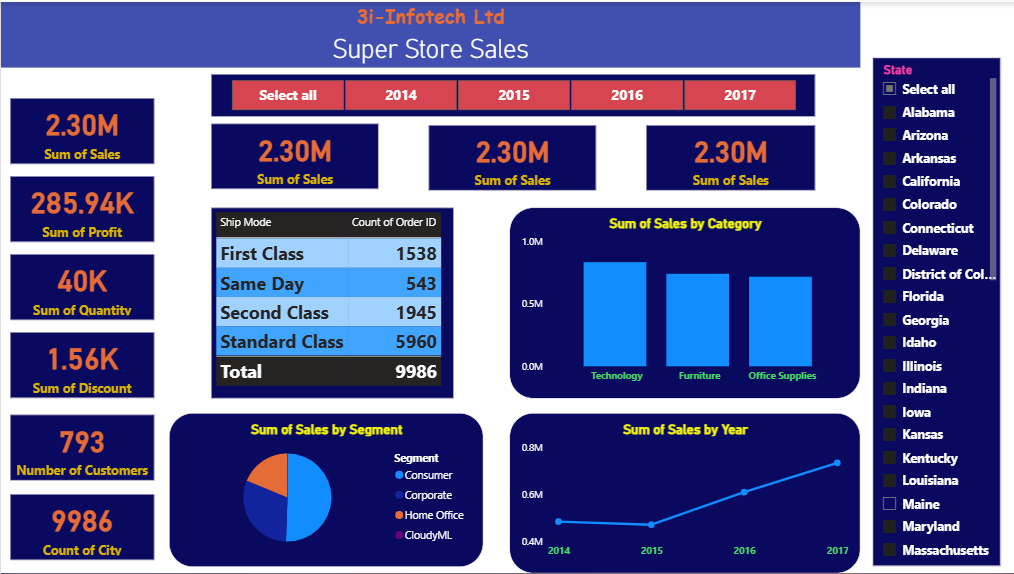

Layout of this report page (visuals, bound fields, positions):
{"tool":"powerbi","page":{"name":"Page 1","canvas":[1280,720],"ordinal":0},"visuals":[{"type":"textbox","title":"3i-Infotech Ltd","box":[0,0,1082.7,82.7],"z":0},{"type":"card","fields":{"Values":["Sum(Orders.Sales)"]},"box":[11.7,121.7,181.7,83.3],"z":1000},{"type":"card","fields":{"Values":["Sum(Orders.Profit)"]},"box":[11.7,218.3,181.7,83.3],"z":2000},{"type":"card","fields":{"Values":["Sum(Orders.Quantity)"]},"box":[11.7,318.3,181.7,83.3],"z":3000},{"type":"card","fields":{"Values":["Count(Orders.Customer Name)"]},"box":[11.7,520,181.7,83.3],"z":4000},{"type":"card","fields":{"Values":["Sum(Orders.Discount)"]},"box":[11.7,416.7,181.7,83.3],"z":5000},{"type":"card","fields":{"Values":["CountNonNull(Orders.City)"]},"box":[11.7,620,181.7,83.3],"z":6000},{"type":"card","fields":{"Values":["Sum(Orders.Sales)"]},"box":[265.4,153.9,211.5,82.7],"z":7000},{"type":"card","fields":{"Values":["Sum(Orders.Sales)"]},"box":[813.5,155.8,213.5,82.7],"z":8000},{"type":"card","fields":{"Values":["Sum(Orders.Sales)"]},"box":[538.5,155.8,211.5,82.7],"z":9000},{"type":"lineChart","fields":{"Y":["Sum(Orders.Sales)"],"Category":["Orders.Order Date.Variation.Date Hierarchy.Year"]},"box":[640.4,517.3,442.3,201.9],"z":10000},{"type":"pieChart","fields":{"Category":["Orders.Segment"],"Y":["Sum(Orders.Sales)"]},"box":[211.5,517.3,396.2,194.2],"z":11000},{"type":"tableEx","fields":{"Values":["Orders.Ship Mode","Orders.Order ID"]},"box":[265.4,259.6,305.8,240.4],"z":12000},{"type":"columnChart","fields":{"Y":["Sum(Orders.Sales)"],"Category":["Orders.Category"]},"box":[640.4,259.6,442.3,240.4],"z":13000},{"type":"slicer","fields":{"Values":["Orders.State"]},"box":[1098.1,69.2,161.5,640.4],"z":14000},{"type":"slicer","fields":{"Values":["Orders.Order Date.Variation.Date Hierarchy.Year"]},"box":[265.4,90.4,761.5,53.8],"z":15000}]}

Visuals, with their boxes in screenshot pixels (x1, y1, x2, y2), scaled from the page's 1280x720 canvas onto the 1014x574 screenshot:
"3i-Infotech Ltd" textbox: locate(0, 0, 858, 66)
card - Sum(Orders.Sales): locate(9, 97, 153, 163)
card - Sum(Orders.Profit): locate(9, 174, 153, 240)
card - Sum(Orders.Quantity): locate(9, 254, 153, 320)
card - Count(Orders.Customer Name): locate(9, 415, 153, 481)
card - Sum(Orders.Discount): locate(9, 332, 153, 399)
card - CountNonNull(Orders.City): locate(9, 494, 153, 561)
card - Sum(Orders.Sales): locate(210, 123, 378, 189)
card - Sum(Orders.Sales): locate(644, 124, 814, 190)
card - Sum(Orders.Sales): locate(427, 124, 594, 190)
lineChart - Sum(Orders.Sales) x Orders.Order Date.Variation.Date Hierarchy.Year: locate(507, 412, 858, 573)
pieChart - Orders.Segment x Sum(Orders.Sales): locate(168, 412, 481, 567)
tableEx - Orders.Ship Mode x Orders.Order ID: locate(210, 207, 452, 399)
columnChart - Sum(Orders.Sales) x Orders.Category: locate(507, 207, 858, 399)
slicer - Orders.State: locate(870, 55, 998, 566)
slicer - Orders.Order Date.Variation.Date Hierarchy.Year: locate(210, 72, 813, 115)
